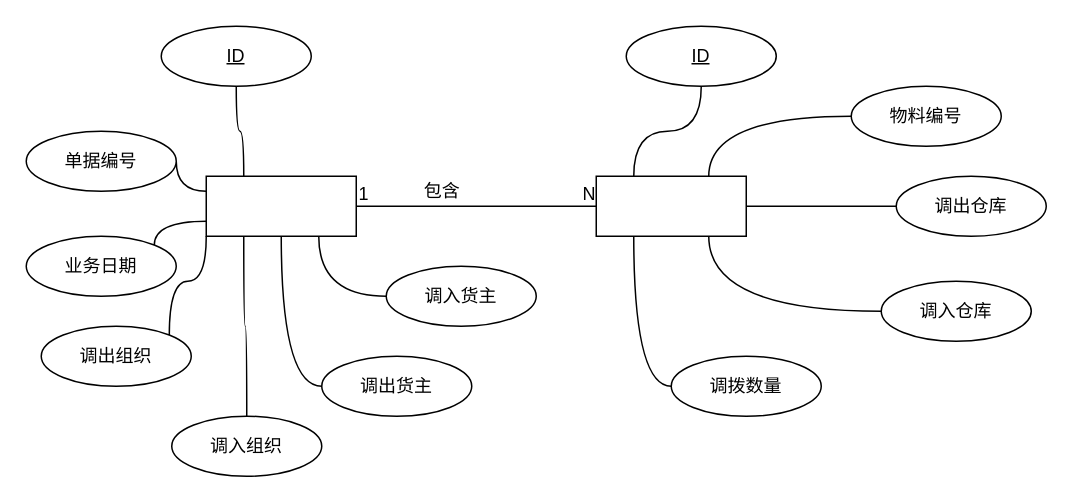
The diagram is 1073 pixels wide and 503 high, and some of its shapes have lost their labels. Here are the shapes that lost their labels. From the top down, the centre of each, then its label:
point 280,205: 直接调拨单
point 670,205: 直接调拨单明细
